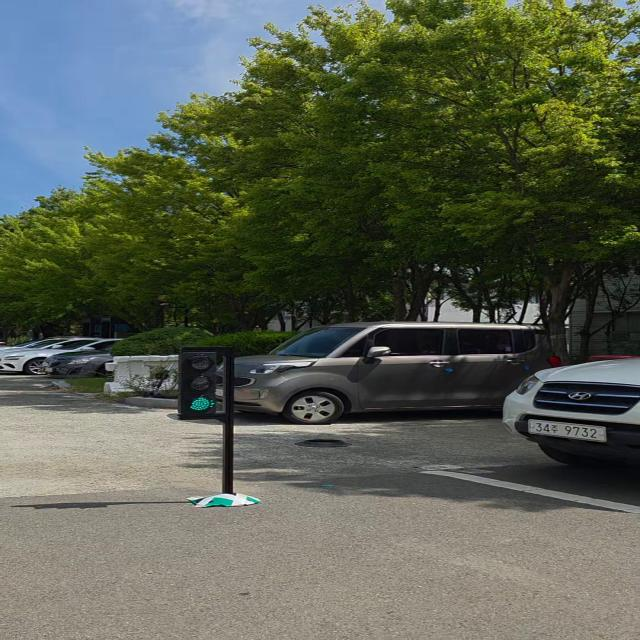green: (174, 351, 222, 418)
